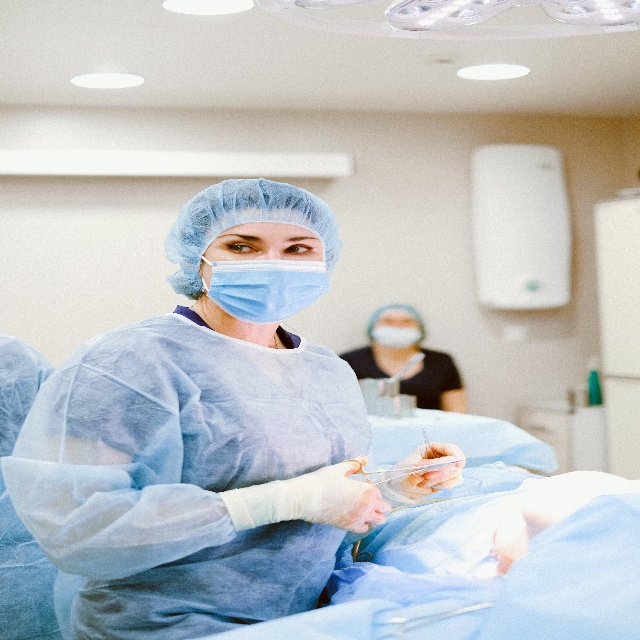Guantes: (239, 456, 391, 527), (382, 436, 466, 501)
Mascara: (200, 257, 331, 322), (372, 325, 422, 346)
